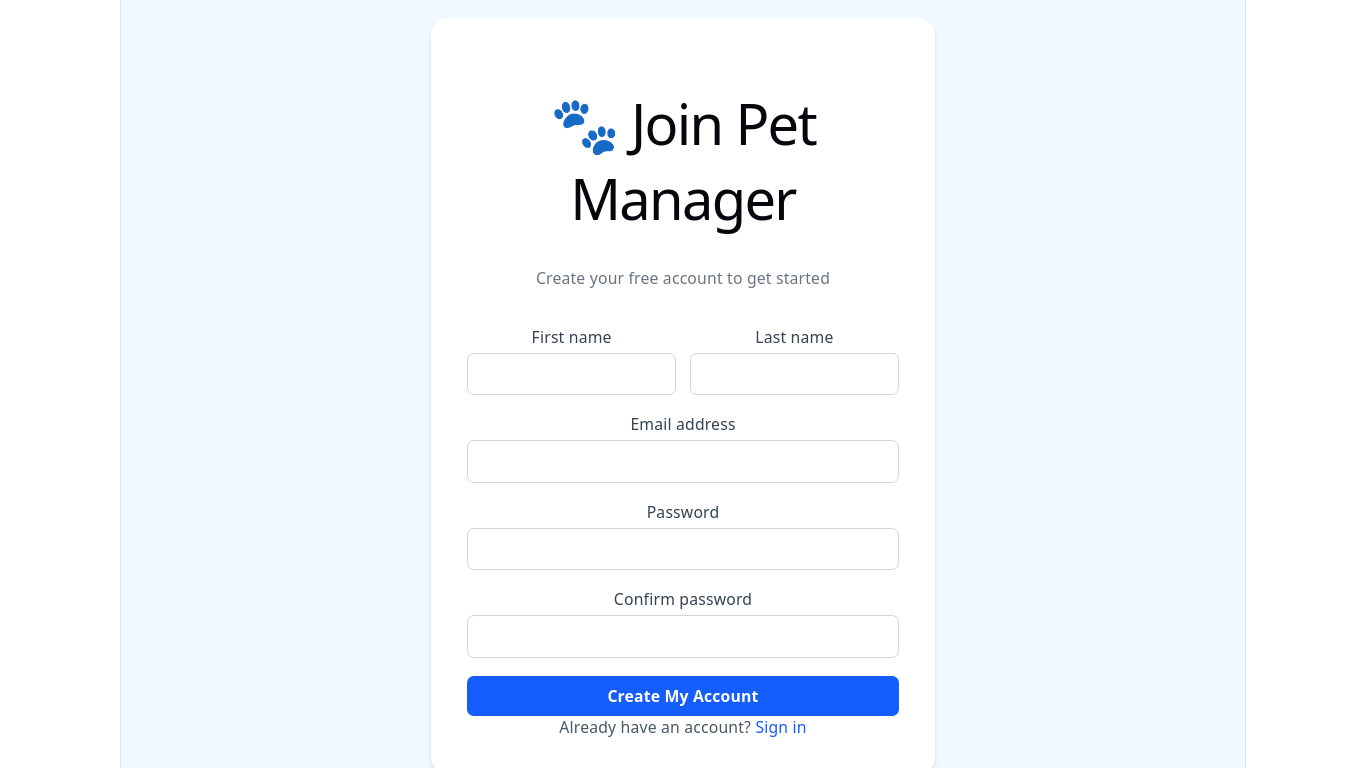
Scenario: RegisterPage › shows success message after successful registration
The image size is (1366, 768).
Type "Sergio" into the field labelled "First name" at point(572, 374), box [467,353,676,395]
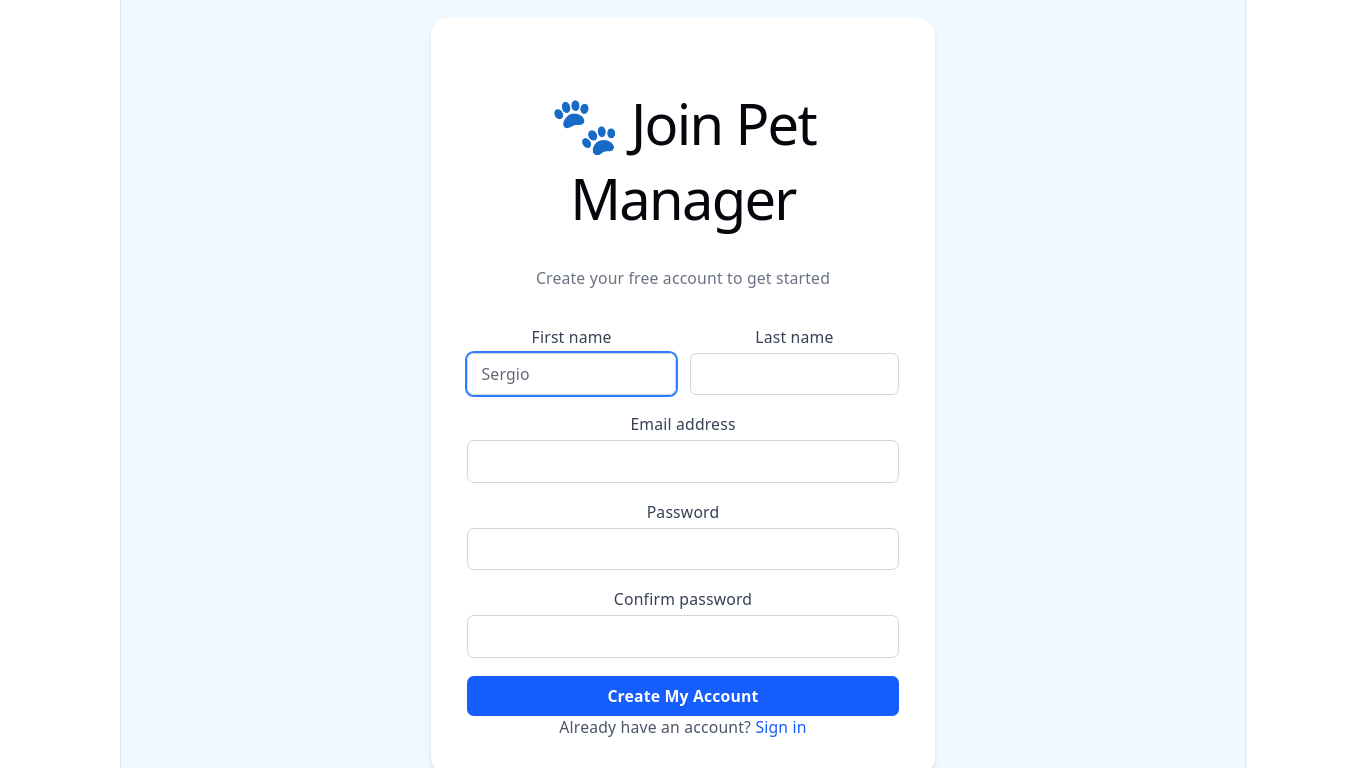
Type "Gutierrez" into the field labelled "Last name" at point(794, 374), box [690,353,899,395]
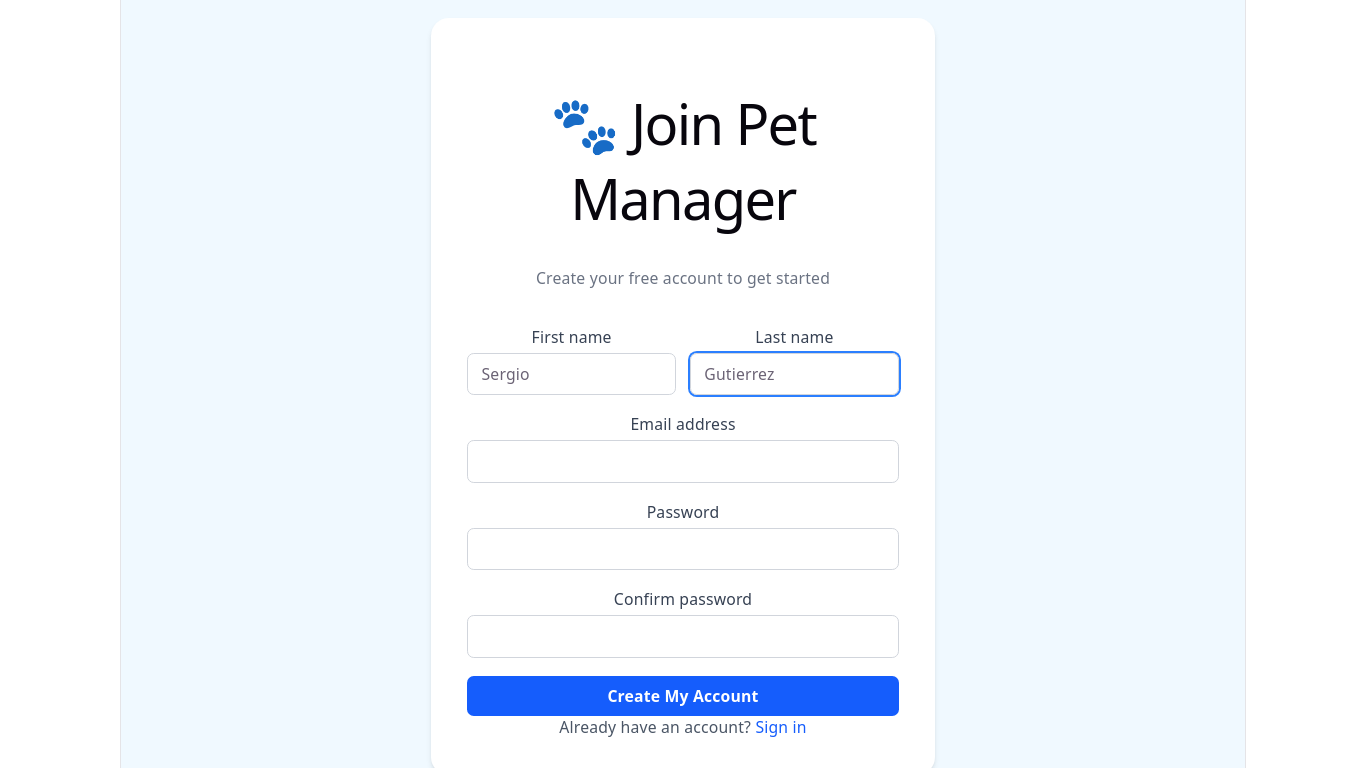
Type "sergio@test.com" into the field labelled "Email address" at point(683, 462), box [467,440,899,483]
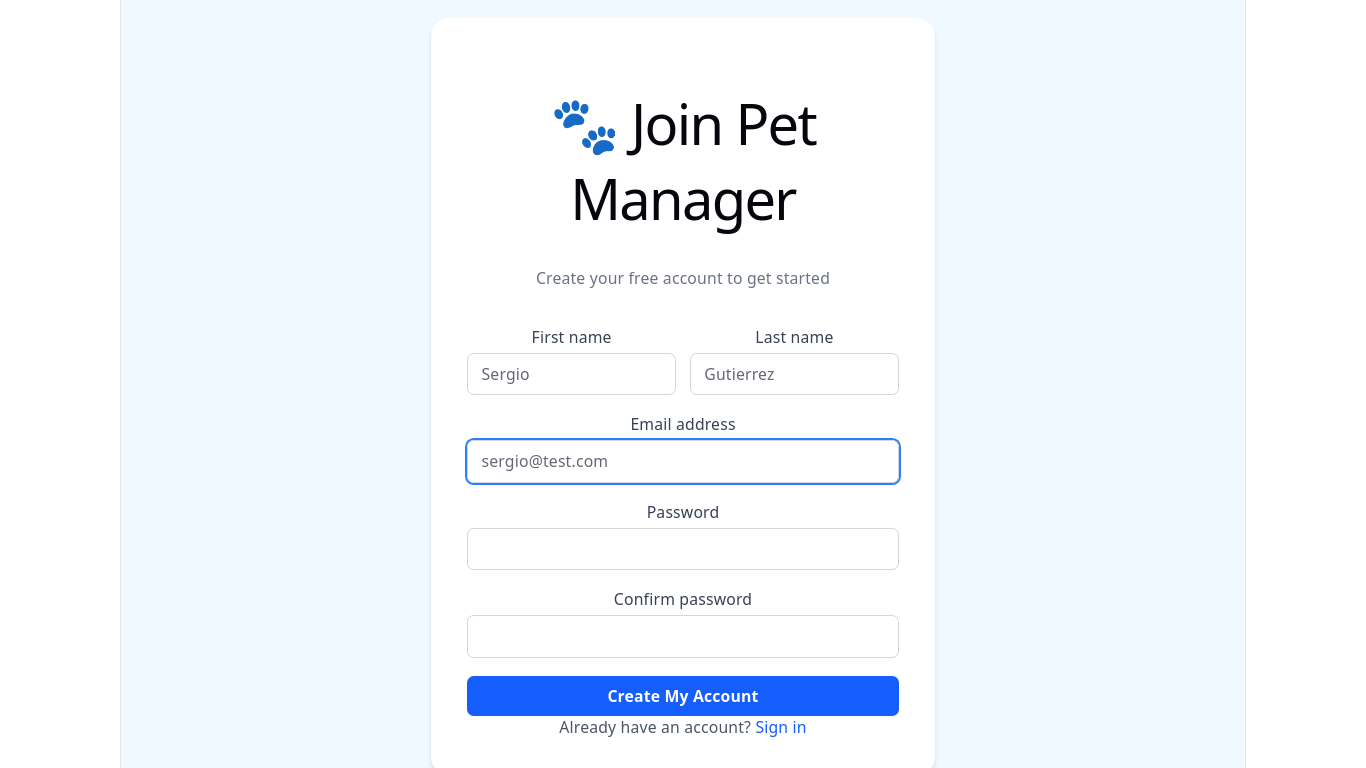
Type "Password1" into the password field labelled "Password" at point(683, 549), box [467,528,899,570]
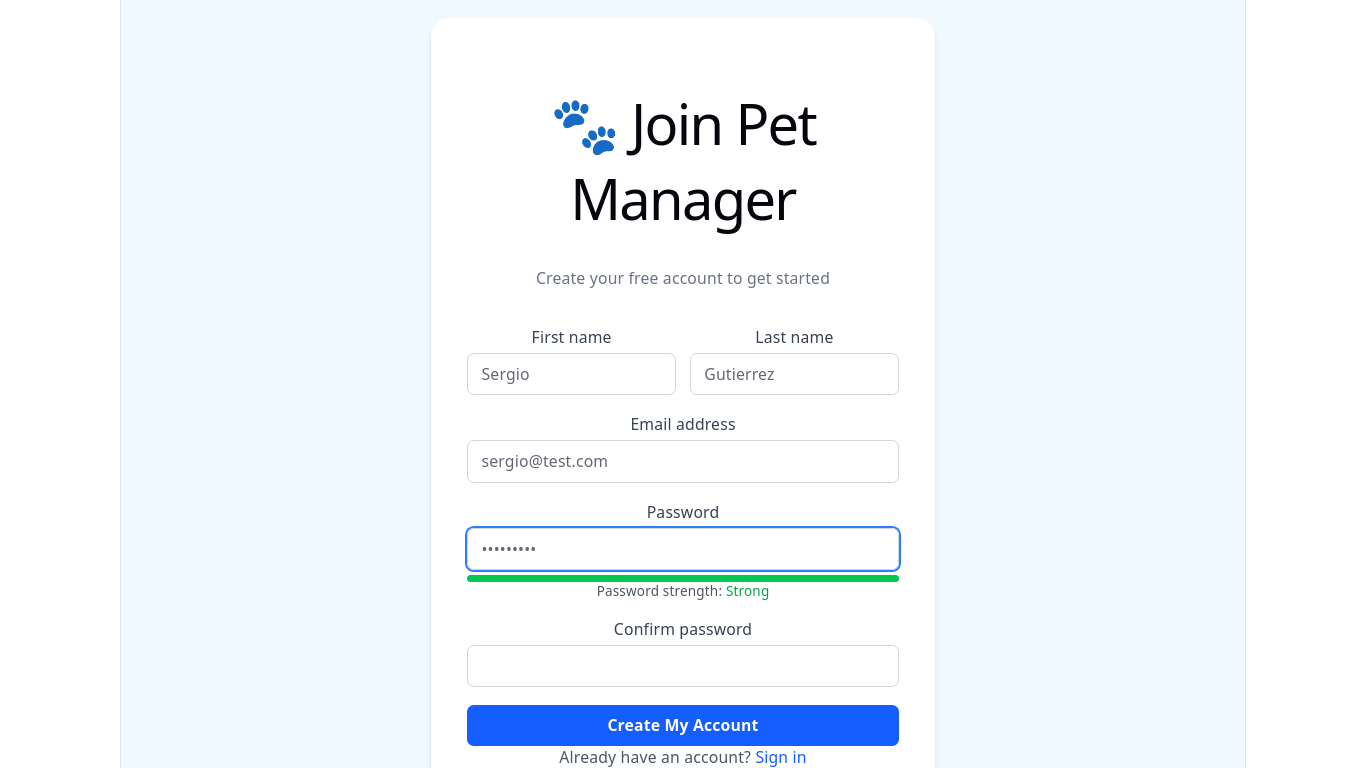
Type "Password1" into the password field labelled "Confirm password" at point(683, 666), box [467,644,899,687]
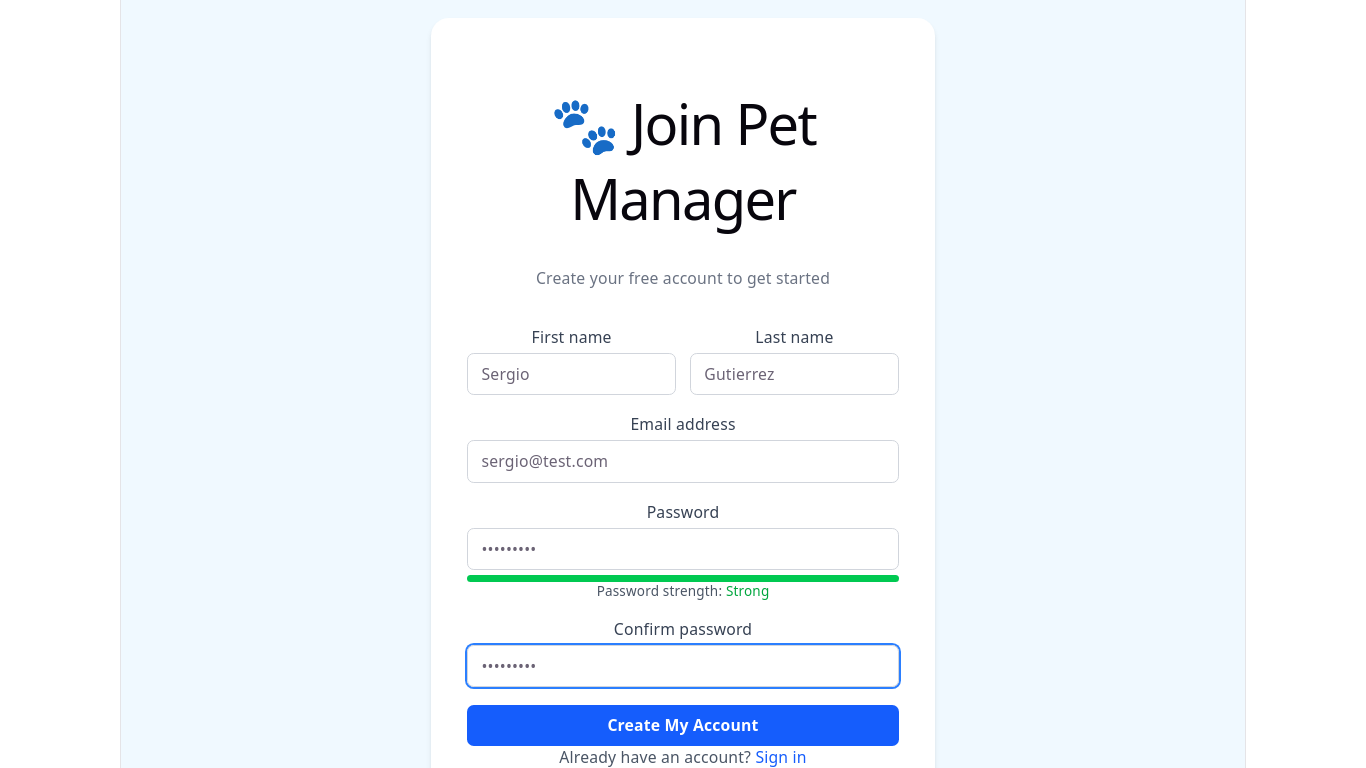
Click the button "Create My Account" at point(683, 725), box [467,705,899,746]
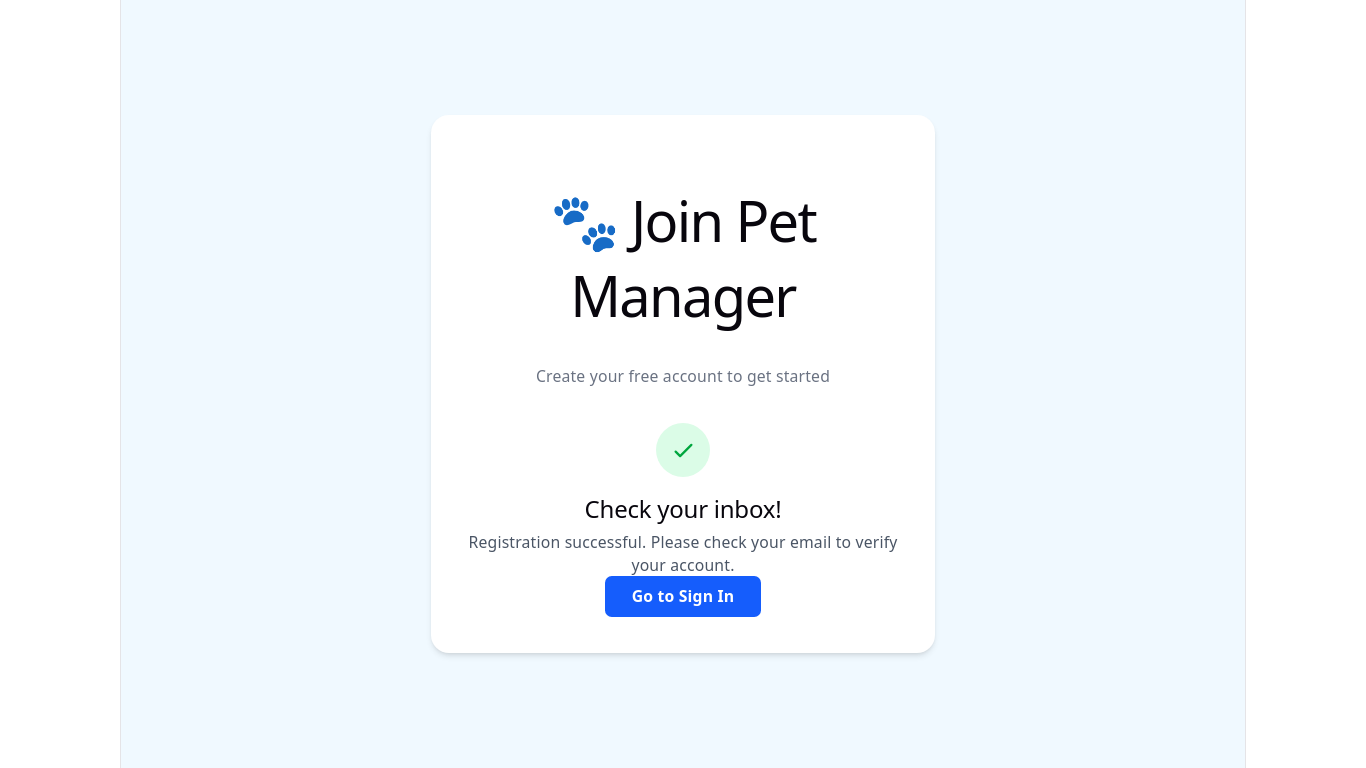
Expected: the text "Registration successful" is shown, [468,531,898,576]
Expected: the link "Go to Sign In" is shown, [605,576,761,617]
